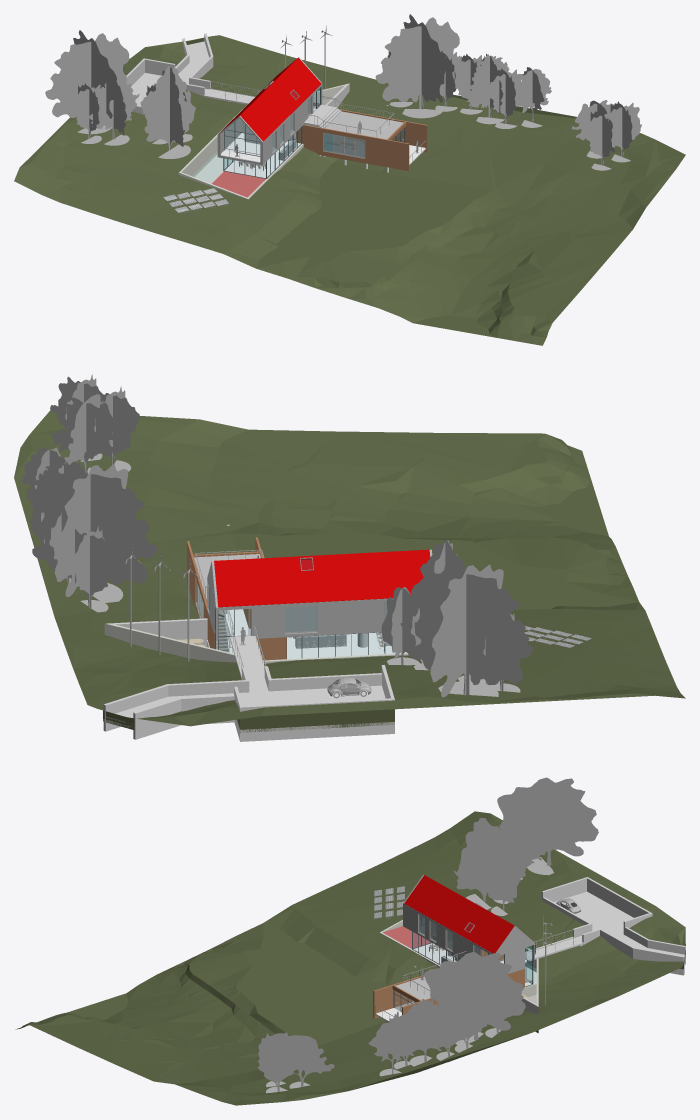
3 renders of one model, top to bottom at view 1: azimuth 30°, elevation 25°; view 2: azimuth 150°, elevation 25°; view 3: azimuth 270°, elevation 25°, orthographic. The views are drawn at different scales.
Visible parts, largest first — view 1: 3ZGD7y6S5209$mGLi_sPll, 2kYqvrv7r7Ee9Lf6DEVctg, 2kYqvrv7r7Ee9Lf6DEVd2D, 2cgXCjpDT0ZxBvxMSr3pfm, 2kYqvrv7r7Ee9Lf6DEVcq_, 2OulbipBrAkwQNv_KJRV9c, 2kYqvrv7r7Ee9Lf6DEVcvD, 2kYqvrv7r7Ee9Lf6DEVcn3, 2kYqvrv7r7Ee9Lf6DEVclx, 2kYqvrv7r7Ee9Lf6DEVcpT, 0LKJKCHUL1kBtnlFXddz6a, 2kYqvrv7r7Ee9Lf6DEVclA (+11 smaller); view 2: 3ZGD7y6S5209$mGLi_sPll, 2kYqvrv7r7Ee9Lf6DEVd2D, 2kYqvrv7r7Ee9Lf6DEVctg, 2cgXCjpDT0ZxBvxMSr3pfm, 38NblWsDL1I8DljLvn67bV, 2kYqvrv7r7Ee9Lf6DEVcim, 2kYqvrv7r7Ee9Lf6DEVctv, 38BWtPCUX0VgAKmmGnoKyb, 3_T6_Ndub6XO_ef59N4DRY, 0NWseyvsH7_gBW225aGtx$, 2kYqvrv7r7Ee9Lf6DEVclx, 2kYqvrv7r7Ee9Lf6DEVcw_ (+19 smaller); view 3: 3ZGD7y6S5209$mGLi_sPll, 2kYqvrv7r7Ee9Lf6DEVd2D, 2kYqvrv7r7Ee9Lf6DEVctg, 2cgXCjpDT0ZxBvxMSr3pfm, 2kYqvrv7r7Ee9Lf6DEVcq_, 38BWtPCUX0VgAKmmGnoKyb, 2kYqvrv7r7Ee9Lf6DEVclA, 2kYqvrv7r7Ee9Lf6DEVcvD, 2kYqvrv7r7Ee9Lf6DEVcpT, 2kYqvrv7r7Ee9Lf6DEVcn3, 38NblWsDL1I8DljLvn67cw, 2kYqvrv7r7Ee9Lf6DEVcw_ (+12 smaller).
Part boxes in pixels (x1=…): 3ZGD7y6S5209$mGLi_sPll: x1=14, y1=35, x2=685, y2=345; 2kYqvrv7r7Ee9Lf6DEVctg: x1=375, y1=14, x2=459, y2=118; 2kYqvrv7r7Ee9Lf6DEVd2D: x1=45, y1=30, x2=129, y2=134; 2cgXCjpDT0ZxBvxMSr3pfm: x1=219, y1=57, x2=321, y2=141; 2kYqvrv7r7Ee9Lf6DEVcq_: x1=144, y1=66, x2=195, y2=158; 2OulbipBrAkwQNv_KJRV9c: x1=302, y1=124, x2=409, y2=170; 2kYqvrv7r7Ee9Lf6DEVcvD: x1=89, y1=77, x2=139, y2=145; 2kYqvrv7r7Ee9Lf6DEVcn3: x1=465, y1=53, x2=509, y2=124; 2kYqvrv7r7Ee9Lf6DEVclx: x1=584, y1=110, x2=622, y2=170; 2kYqvrv7r7Ee9Lf6DEVcpT: x1=514, y1=67, x2=551, y2=127; 0LKJKCHUL1kBtnlFXddz6a: x1=325, y1=111, x2=403, y2=139; 2kYqvrv7r7Ee9Lf6DEVclA: x1=606, y1=101, x2=641, y2=162; 3ZGD7y6S5209$mGLi_sPll: x1=14, y1=410, x2=685, y2=732; 2kYqvrv7r7Ee9Lf6DEVd2D: x1=407, y1=561, x2=532, y2=706; 2kYqvrv7r7Ee9Lf6DEVctg: x1=32, y1=461, x2=157, y2=602; 2cgXCjpDT0ZxBvxMSr3pfm: x1=214, y1=549, x2=430, y2=607; 38NblWsDL1I8DljLvn67bV: x1=218, y1=598, x2=393, y2=638; 2kYqvrv7r7Ee9Lf6DEVcim: x1=50, y1=394, x2=123, y2=473; 2kYqvrv7r7Ee9Lf6DEVctv: x1=68, y1=526, x2=116, y2=612; 38BWtPCUX0VgAKmmGnoKyb: x1=106, y1=685, x2=385, y2=723; 3_T6_Ndub6XO_ef59N4DRY: x1=239, y1=698, x2=391, y2=741; 0NWseyvsH7_gBW225aGtx$: x1=104, y1=623, x2=236, y2=662; 2kYqvrv7r7Ee9Lf6DEVclx: x1=87, y1=386, x2=139, y2=471; 2kYqvrv7r7Ee9Lf6DEVcw_: x1=381, y1=587, x2=419, y2=665; 3ZGD7y6S5209$mGLi_sPll: x1=15, y1=811, x2=685, y2=1105; 2kYqvrv7r7Ee9Lf6DEVd2D: x1=497, y1=777, x2=598, y2=875; 2kYqvrv7r7Ee9Lf6DEVctg: x1=424, y1=952, x2=525, y2=1045; 2cgXCjpDT0ZxBvxMSr3pfm: x1=404, y1=875, x2=514, y2=953; 2kYqvrv7r7Ee9Lf6DEVcq_: x1=453, y1=818, x2=511, y2=909; 38BWtPCUX0VgAKmmGnoKyb: x1=554, y1=891, x2=684, y2=956; 2kYqvrv7r7Ee9Lf6DEVclA: x1=257, y1=1038, x2=304, y2=1093; 2kYqvrv7r7Ee9Lf6DEVcvD: x1=499, y1=811, x2=549, y2=879; 2kYqvrv7r7Ee9Lf6DEVcpT: x1=368, y1=1021, x2=413, y2=1076; 2kYqvrv7r7Ee9Lf6DEVcn3: x1=406, y1=999, x2=456, y2=1066; 38NblWsDL1I8DljLvn67cw: x1=404, y1=904, x2=492, y2=958; 2kYqvrv7r7Ee9Lf6DEVcw_: x1=487, y1=857, x2=518, y2=915.
Bounding box in the file's own units: 83.55 × 24.31 × 87.2.
